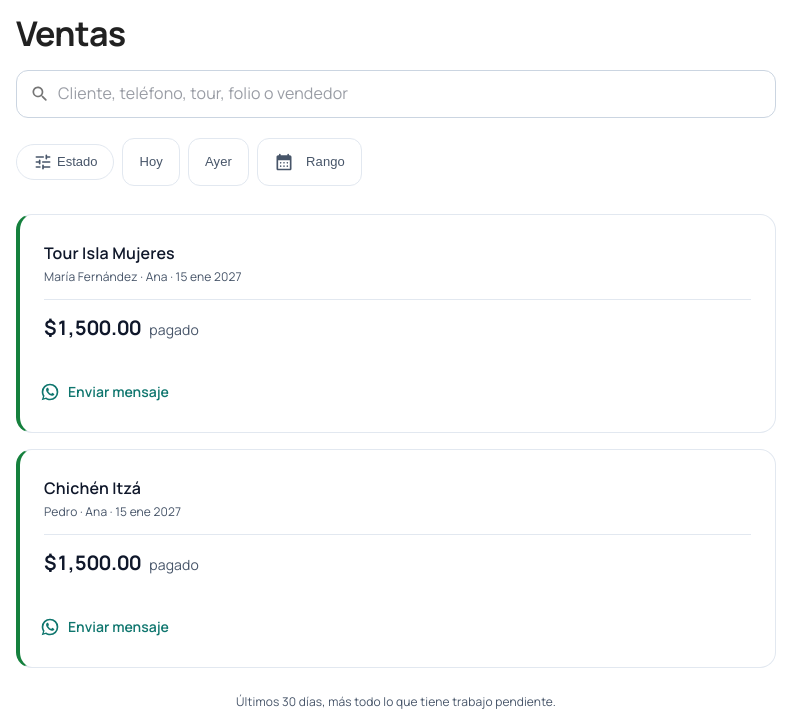
it: US-A83 — finding one sale › filters locally as you type, over the service name
Check: the heading "Tour Isla Mujeres" is shown, box x1=44 y1=242 x2=175 y2=264
In the field named "Buscar ventas": (417, 94) x1=58 y1=70 x2=776 y2=118, type "isla"
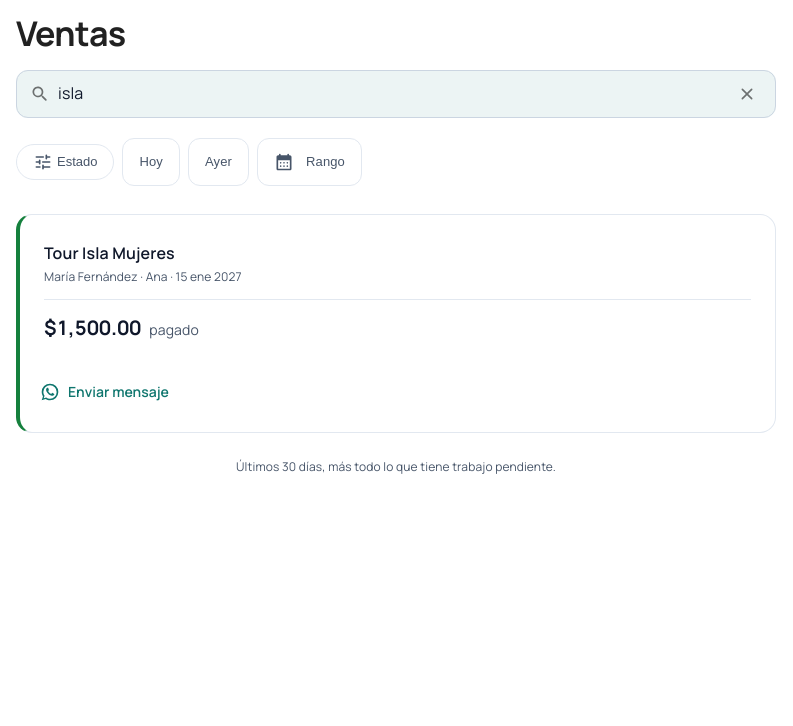
Check: the heading "Tour Isla Mujeres" is shown, box x1=44 y1=242 x2=175 y2=264
Check: the link "Chichén" is gone
